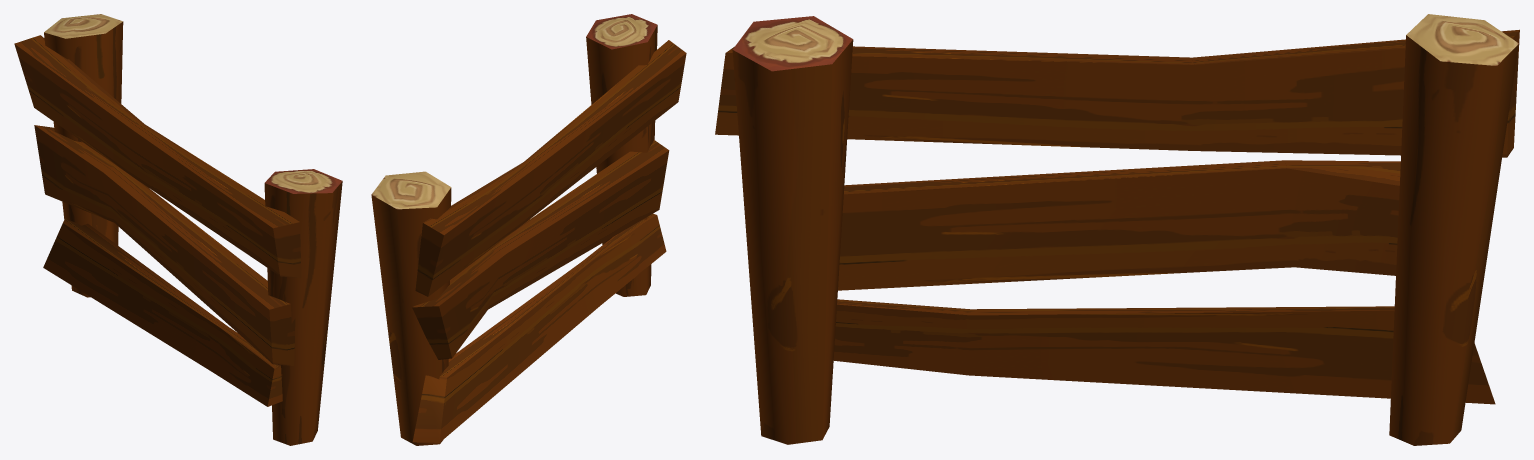
Rendered from Cerca_01.fbx.
3 views of the same model, side by side, from view 1: azimuth 30°, elevation 25°; view 2: azimuth 150°, elevation 25°; view 3: azimuth 270°, elevation 25° (orthographic). The views are drawn at different scales.
Visible parts, largest first — view 1: Cerca_01; view 2: Cerca_01; view 3: Cerca_01.
Part boxes in pixels (left/top/right/bottom): Cerca_01: left=14, top=14, right=342, bottom=445; Cerca_01: left=371, top=14, right=686, bottom=445; Cerca_01: left=715, top=14, right=1519, bottom=445.
Bounding box in the file's own units: 41.86 × 117 × 211.
